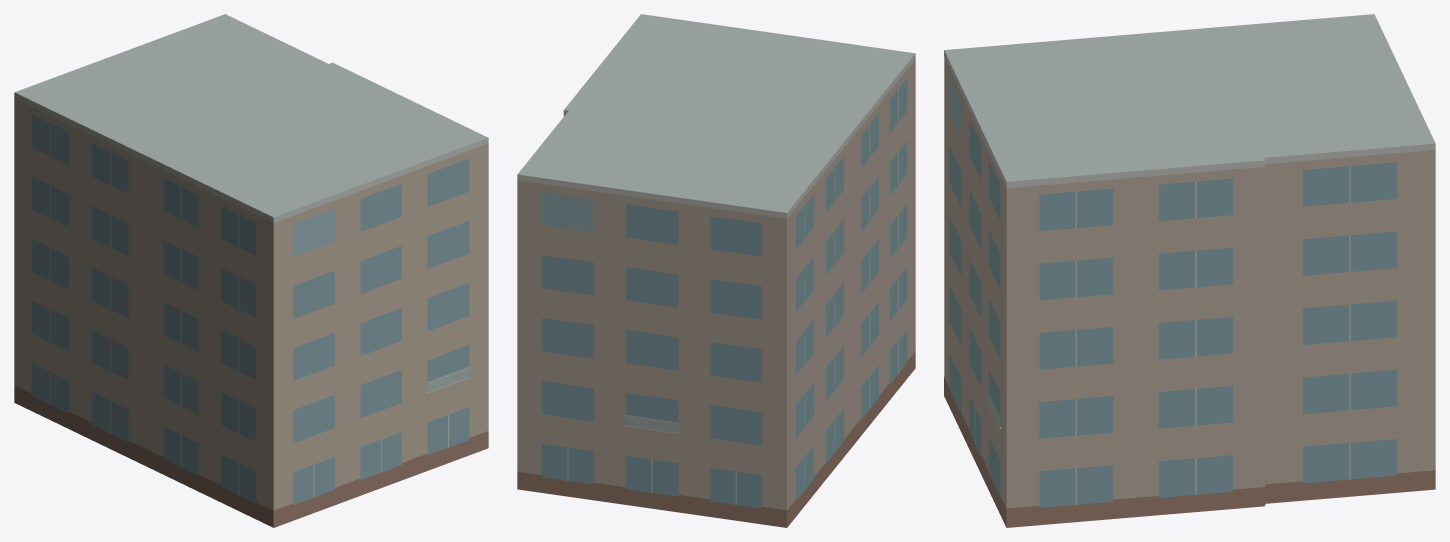
File: survey-upis-32606592.glb
The picture shows the model from 3 angles, left to right: view 1: azimuth 30°, elevation 25°; view 2: azimuth 150°, elevation 25°; view 3: azimuth 270°, elevation 25°; orthographic projection. The views are drawn at different scales.
Parts seen in each view (by area): view 1: survey-upis-32606592.tmp; view 2: survey-upis-32606592.tmp; view 3: survey-upis-32606592.tmp.
Boxes of the visible parts, <box> form: survey-upis-32606592.tmp: <box>14,14,488,527</box>; survey-upis-32606592.tmp: <box>517,14,915,527</box>; survey-upis-32606592.tmp: <box>944,14,1435,527</box>.
Size of the model in its own units: 13.92 by 13.35 by 17.2.
